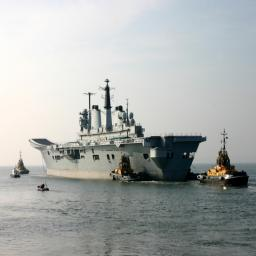Portanaves: (29, 76, 210, 185)
